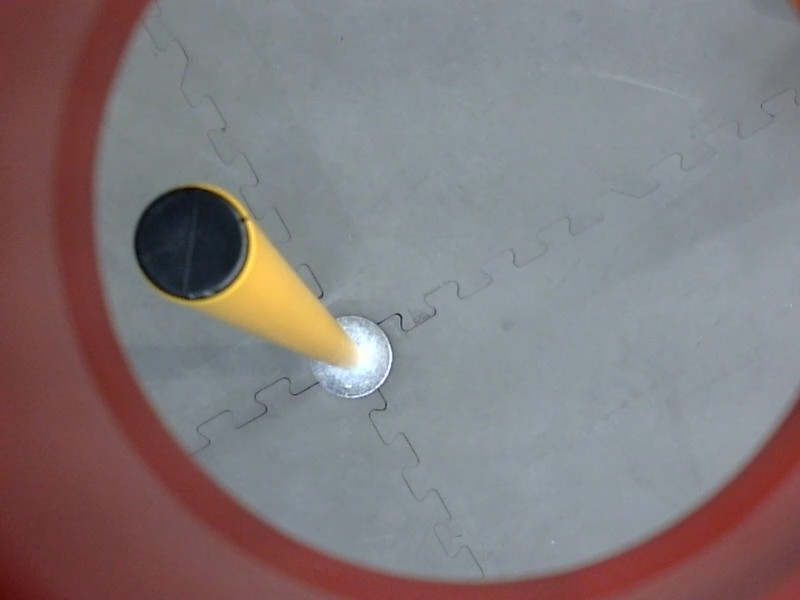tip: (123, 173, 266, 312)
